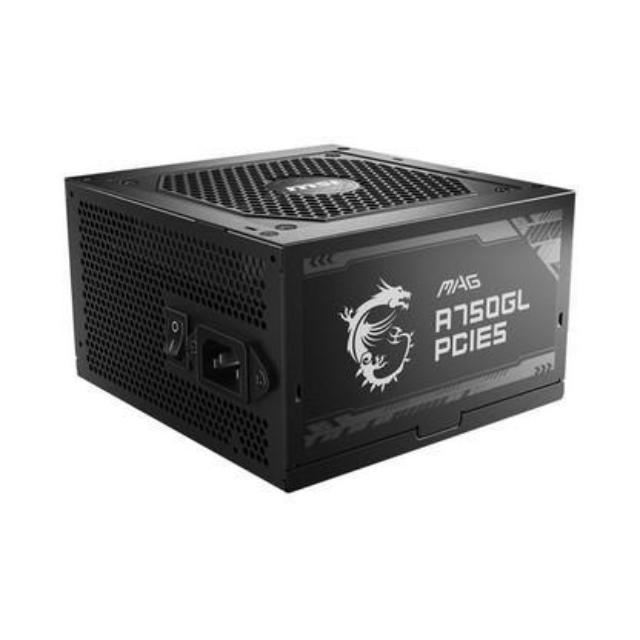PSU: (49, 113, 586, 513)
